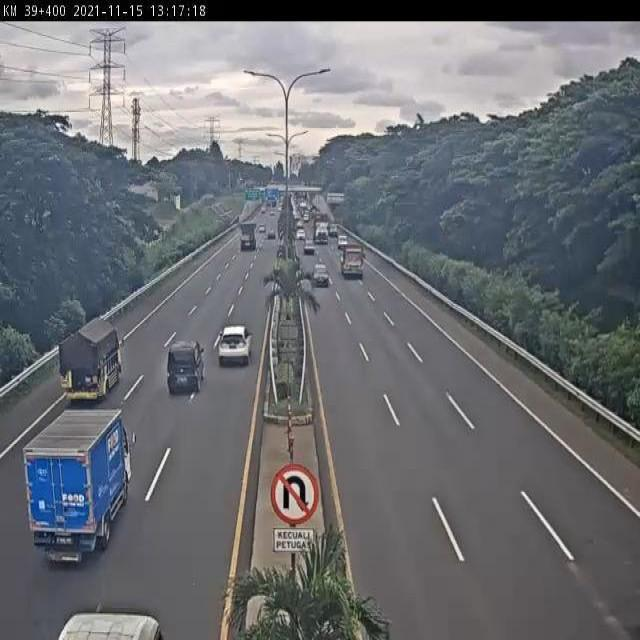car: (165, 337, 206, 396), (215, 321, 254, 368), (310, 260, 331, 291)
truck: (24, 406, 133, 562), (58, 317, 124, 403), (340, 241, 366, 279)
